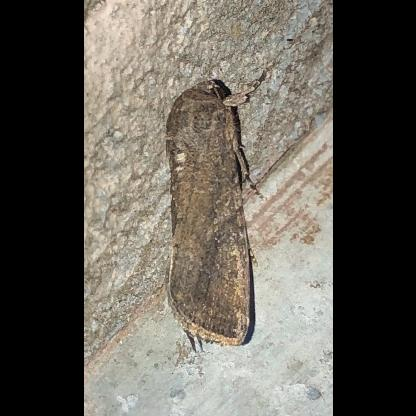Fall Armyworm Moth: (159, 63, 271, 357)
